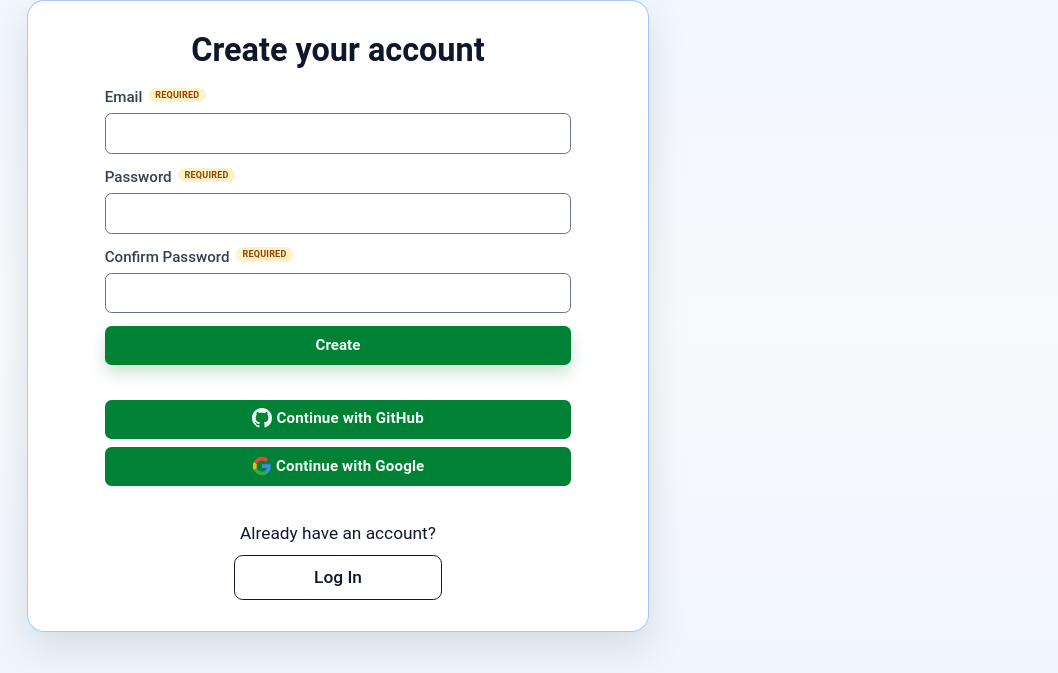
Test: SignUp Form Submit › Redirects to LogIn on successful form submit
This screenshot has width=1058, height=673.
Type "newemail@mail.com" into the field labelled "Email required".
click(338, 134); type("newemail@mail.com")  # box left=105, top=113, right=571, bottom=154
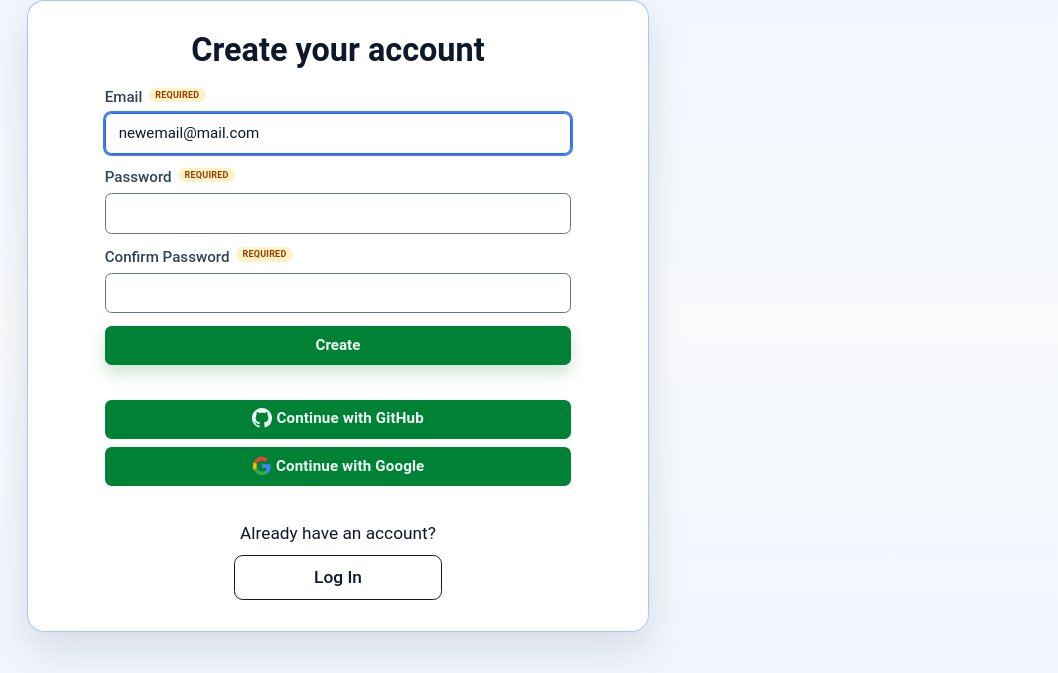
Type "Password123" into the password field labelled "Password required".
click(338, 213); type("Password123")  # box left=105, top=193, right=571, bottom=234
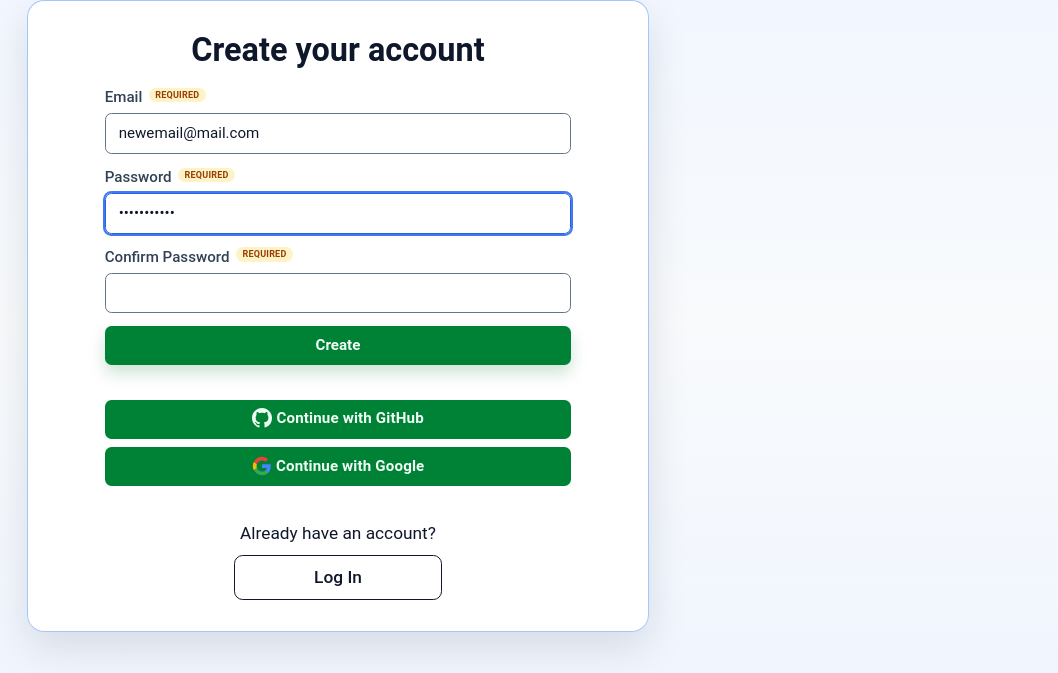
Type "Password123" into the password field labelled "Confirm Password required".
click(338, 293); type("Password123")  # box left=105, top=273, right=571, bottom=313
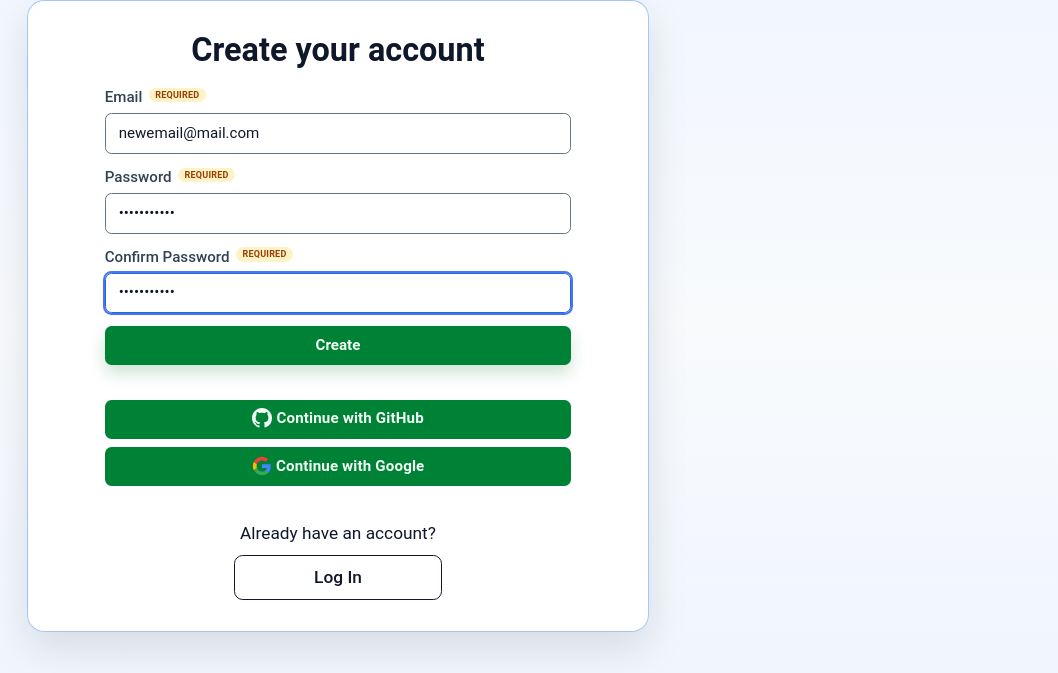
Click the button "Create".
click(338, 346)  # box left=105, top=326, right=571, bottom=365
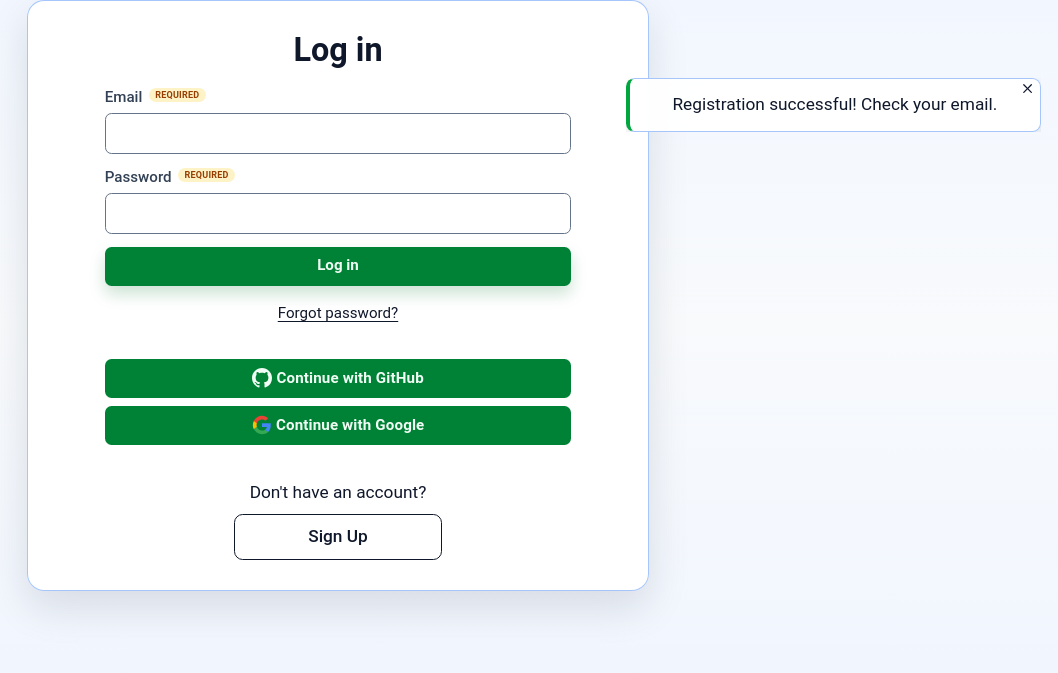
Check: the text "Registration successful! Check your email." is shown, box left=672, top=92, right=997, bottom=118
